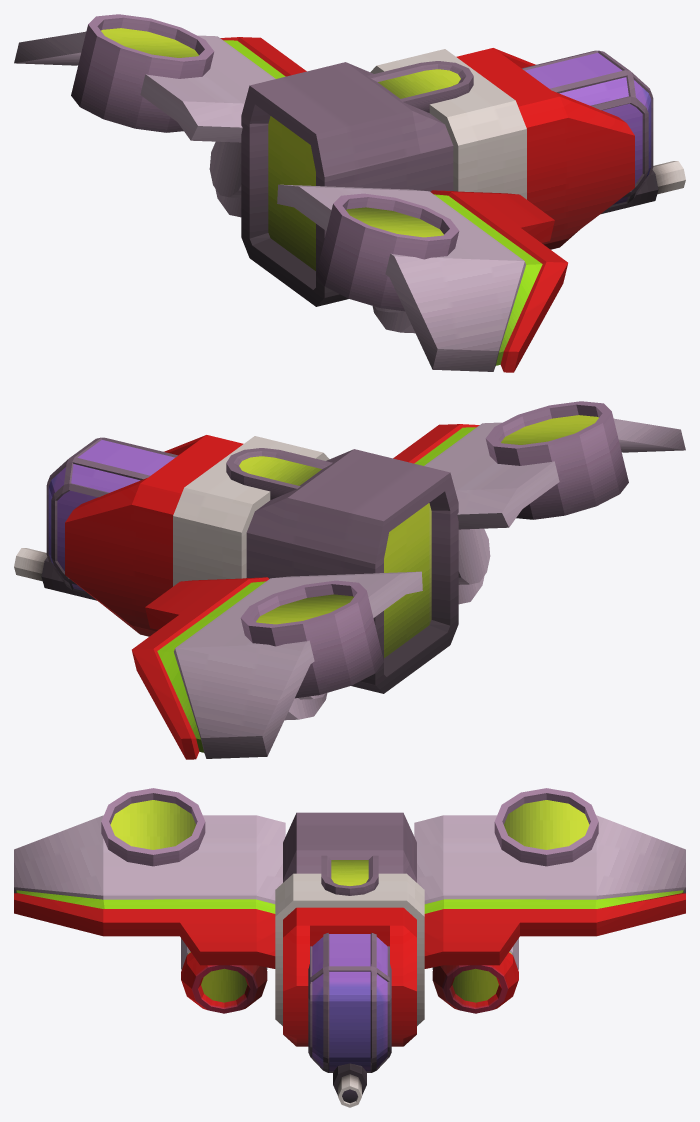
Rendered from SM_Hauler_Level_2.fbx.
3 renders of one model, top to bottom at view 1: azimuth 30°, elevation 25°; view 2: azimuth 150°, elevation 25°; view 3: azimuth 270°, elevation 25°, orthographic. The views are drawn at different scales.
Visible parts, largest first — view 1: Hauler_Level_2; view 2: Hauler_Level_2; view 3: Hauler_Level_2.
Boxes of the visible parts, x1,y1,x2,y2 form: Hauler_Level_2: [14, 14, 685, 372]; Hauler_Level_2: [14, 401, 685, 759]; Hauler_Level_2: [14, 788, 685, 1107].
Size of the model in its own units: 488 by 190 by 744.
Materials: 1 (1 with a texture image).
